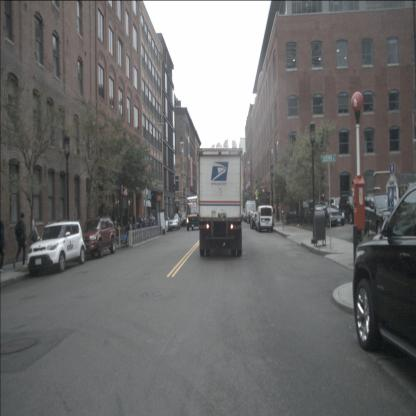human-pedestrian-adult: (13, 212, 28, 269), (29, 219, 40, 261), (0, 221, 5, 273), (138, 214, 143, 232), (272, 206, 276, 226)
vehicle-car: (352, 181, 416, 376), (27, 221, 86, 276), (360, 194, 406, 239), (81, 218, 116, 258), (339, 194, 363, 224), (321, 204, 345, 229), (255, 206, 273, 234), (328, 196, 346, 219), (186, 205, 200, 230), (167, 214, 181, 231), (250, 211, 260, 229), (177, 212, 187, 228), (246, 211, 256, 224)
vehicle-truck: (198, 148, 243, 258), (245, 200, 256, 223)
